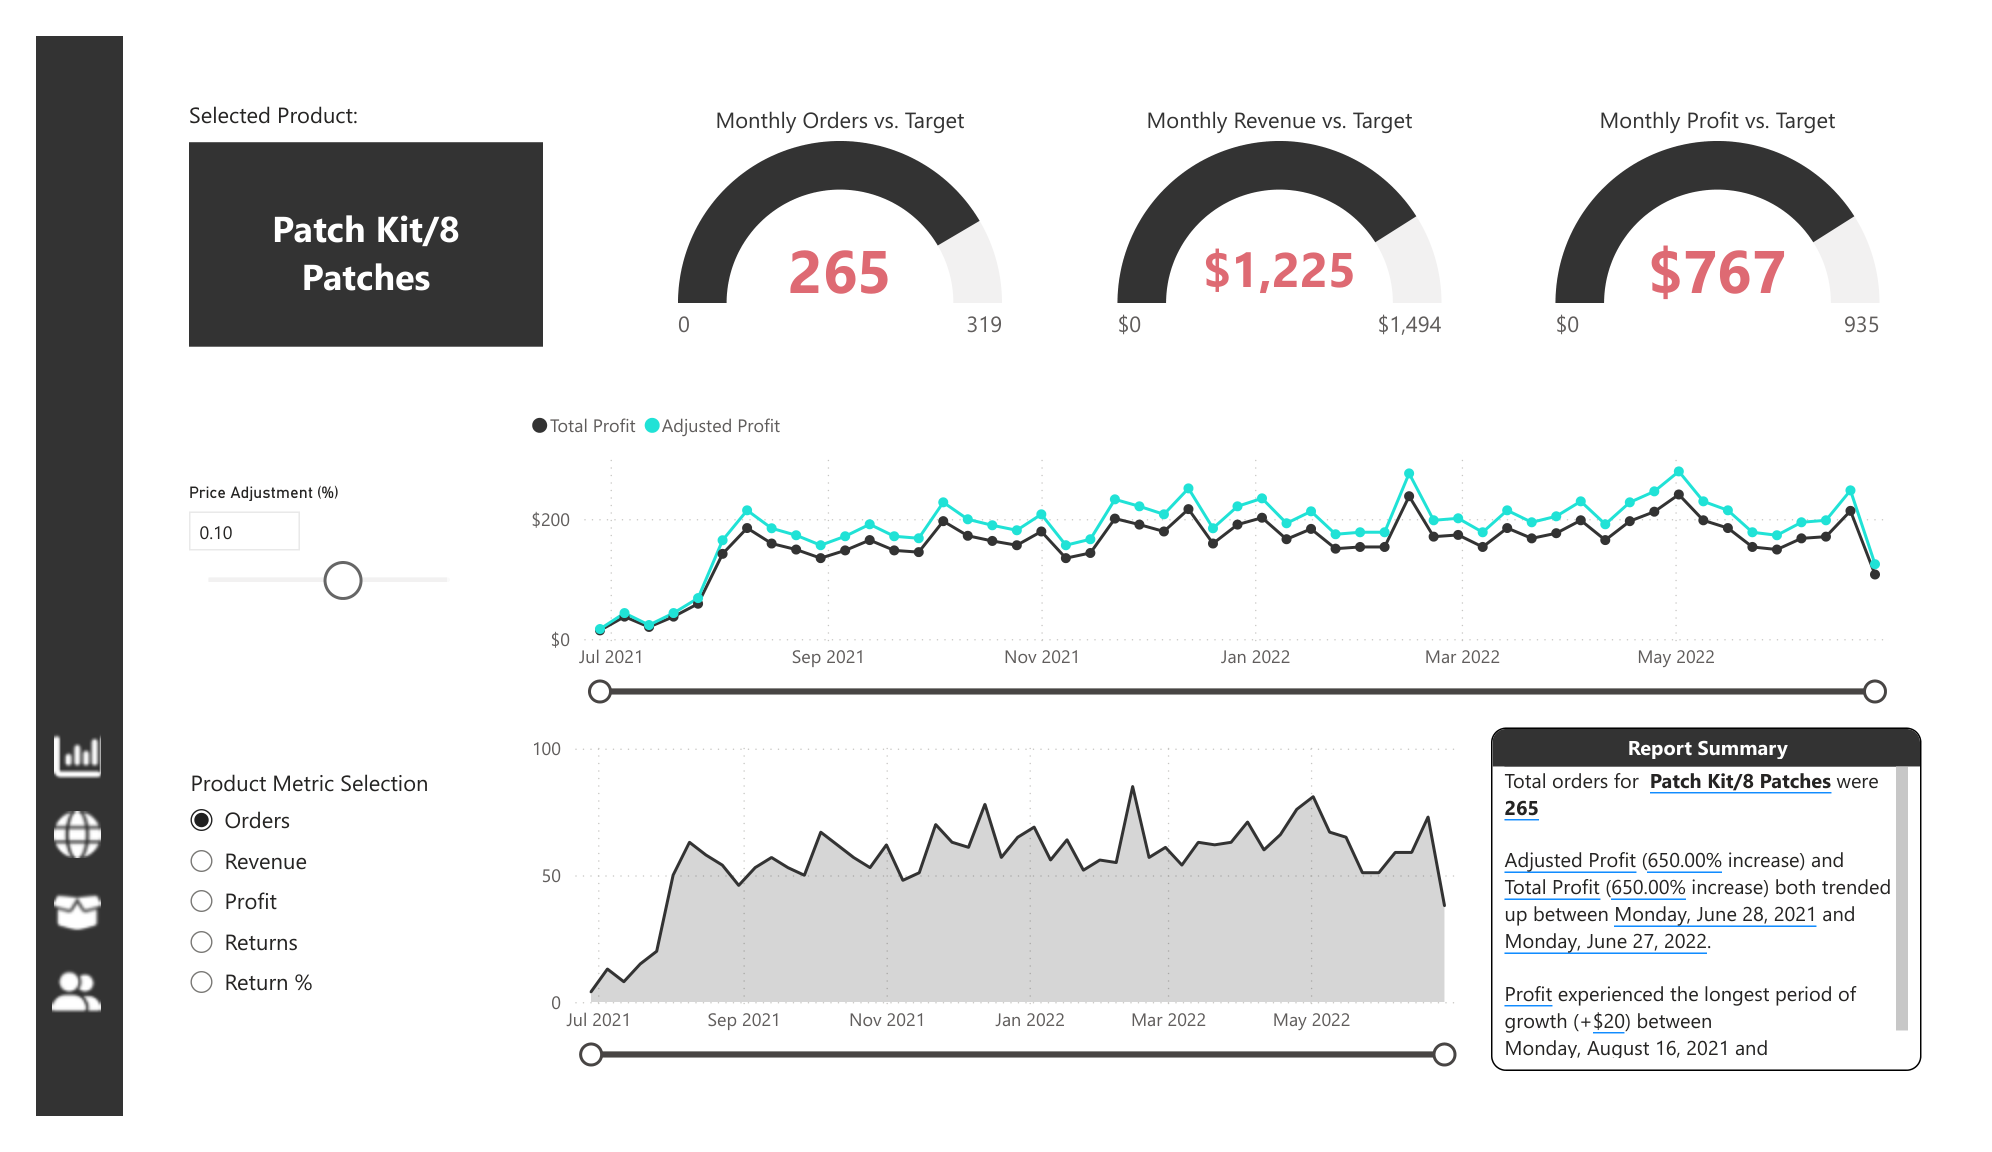

What the dashboard file says about the page in this screenshot:
{"tool":"powerbi","page":{"name":"Product Detail","canvas":[1280,720],"ordinal":2},"visuals":[{"type":"shape","title":"Left Navbar","box":[0,0,57.5,720],"z":0},{"type":"gauge","title":"Monthly Orders vs. Target","fields":{"MaxValue":["Measure Table.Order Target"],"Y":["Measure Table.Total Orders"]},"box":[420.8,44.8,230,168],"z":1000},{"type":"actionButton","box":[7.8,460.3,39.6,39.6],"z":1000,"group":"g1"},{"type":"cardVisual","fields":{"Data":["Min(Product Lookup.ProductName)"]},"box":[97.2,66.5,245.5,145.8],"z":2000},{"type":"actionButton","box":[7.8,512.3,39.6,39.6],"z":2000,"group":"g1"},{"type":"gauge","title":"Monthly Revenue vs. Target","fields":{"MaxValue":["Measure Table.Revenue Target"],"Y":["Measure Table.Total Revenue"]},"box":[713.6,44.8,230,168],"z":3000},{"type":"actionButton","box":[7.2,617.6,40.9,39.6],"z":3000,"group":"g1"},{"type":"gauge","title":"Monthly Profit vs. Target","fields":{"MaxValue":["Measure Table.Profit Target"],"Y":["Measure Table.Total Profit"]},"box":[1006.4,45.1,229.4,167.4],"z":4000},{"type":"actionButton","box":[7.8,564.3,39.6,40.9],"z":4000,"group":"g1"},{"type":"lineChart","title":"Profit Trending","fields":{"Category":["Calendar Lookup.Calendar Hierarchy.Start of Year","Calendar Lookup.Calendar Hierarchy.Start of Month","Calendar Lookup.Calendar Hierarchy.Start of Week","Calendar Lookup.Calendar Hierarchy.Date"],"Y":["Measure Table.Total Profit","Measure Table.Adjusted Profit"]},"box":[324.9,240.4,932.6,208.1],"z":5000},{"type":"areaChart","title":"Return Trending","fields":{"Category":["Calendar Lookup.Calendar Hierarchy.Start of Year","Calendar Lookup.Calendar Hierarchy.Start of Month","Calendar Lookup.Calendar Hierarchy.Start of Week","Calendar Lookup.Calendar Hierarchy.Date"],"Y":["Measure Table.Total Orders"]},"box":[324.9,460.7,645.4,229.2],"z":6000},{"type":"textbox","box":[97.2,37.1,135.5,38.4],"z":7000},{"type":"group","id":"g1","title":"Navigation Buttons","box":[7.2,460.3,40.9,196.9],"z":8000},{"type":"slicer","fields":{"Values":["Price Adjustment (%).Price Adjustment (%)"]},"box":[89,292.7,208.1,136],"z":9000},{"type":"slicer","fields":{"Values":["Product Metric Selection.Product Metric Selection"]},"box":[89.5,482.1,202,182.9],"z":10000},{"type":"textbox","title":"Report Summary","box":[970.4,460.7,287.1,229.2],"z":11000}]}

Visuals, with their boxes in screenshot pixels (x1, y1, x2, y2), scaled from the page's 1280x720 canvas onto the 1992x1152 screenshot:
"Left Navbar" shape: 0:0:89:1151
"Monthly Orders vs. Target" gauge: 655:72:1013:340
actionButton: 12:736:74:800
cardVisual - Min(Product Lookup.ProductName): 151:106:533:340
actionButton: 12:820:74:883
"Monthly Revenue vs. Target" gauge: 1111:72:1468:340
actionButton: 11:988:75:1052
"Monthly Profit vs. Target" gauge: 1566:72:1923:340
actionButton: 12:903:74:968
"Profit Trending" lineChart: 506:385:1957:718
"Return Trending" areaChart: 506:737:1510:1104
textbox: 151:59:362:121
"Navigation Buttons" group: 11:736:75:1052
slicer - Price Adjustment (%).Price Adjustment (%): 139:468:462:686
slicer - Product Metric Selection.Product Metric Selection: 139:771:454:1064
"Report Summary" textbox: 1510:737:1957:1104
